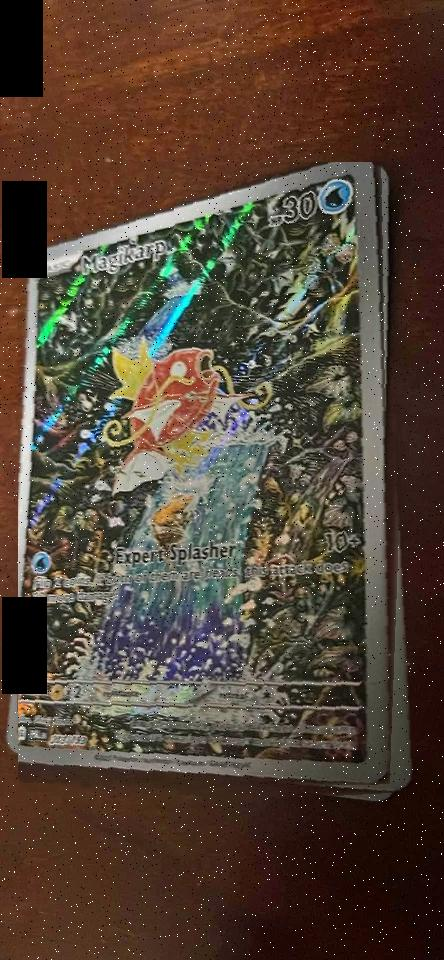card: (18, 162, 390, 785)
